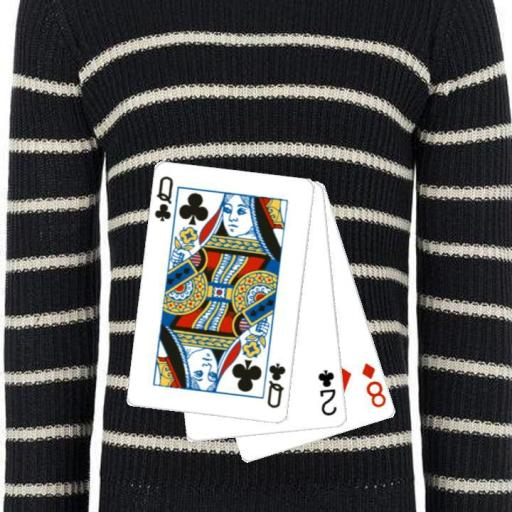2C: (315, 367, 339, 417)
8D: (359, 360, 388, 410)
QC: (151, 173, 175, 223), (265, 360, 288, 410)
